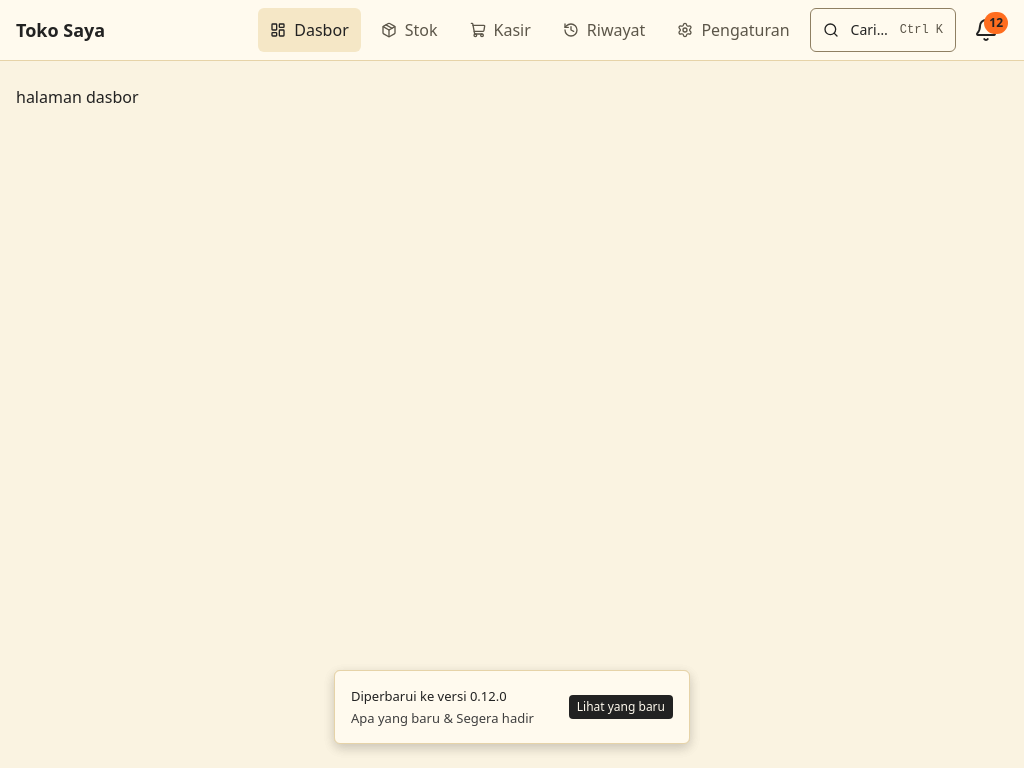
Scenario: lonceng dan halaman peringatan › lonceng menunjukkan 12; membuka halaman memuat 4 Habis dan 8 Menipis lalu lonceng menjadi 0
The width and height of the screenshot is (1024, 768).
Click the link named "Peringatan stok, 12 belum dibaca".
click(986, 30)  # box [964,8,1008,52]
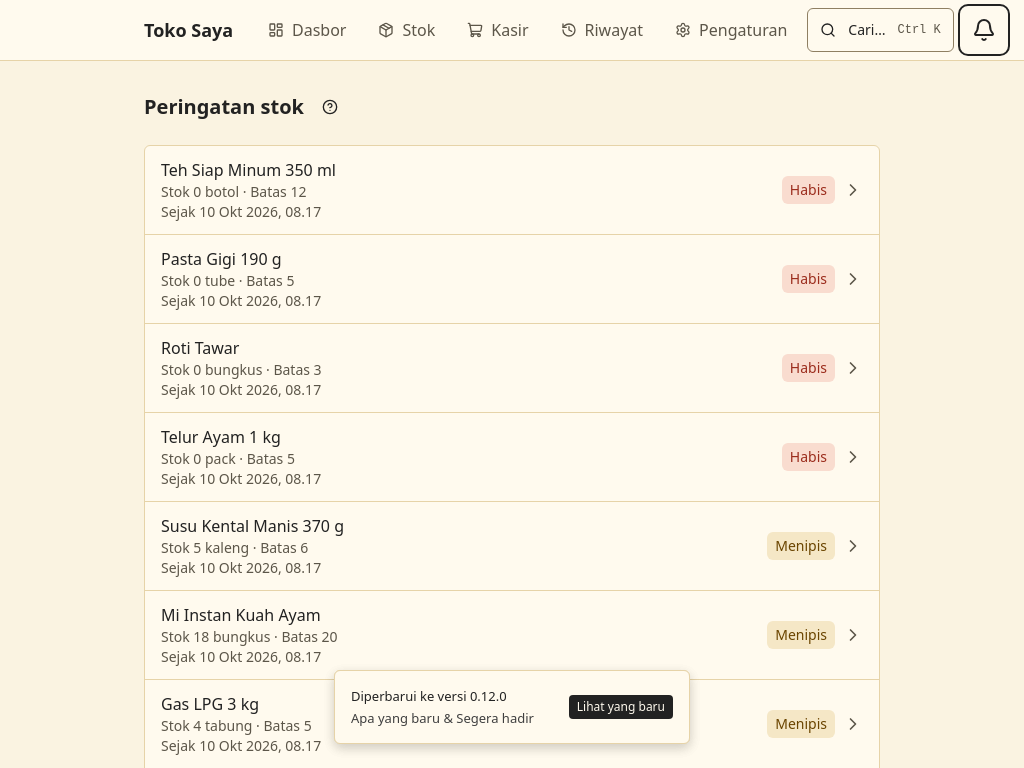
Expected: the link "Telur Ayam 1 kg" is shown, [145,413,879,501]
Expected: the text "Habis" is shown 4 times, [782,176,835,204]; [782,265,835,293]; [782,354,835,382]; [782,443,835,471]
Expected: the text "Menipis" is shown 8 times
